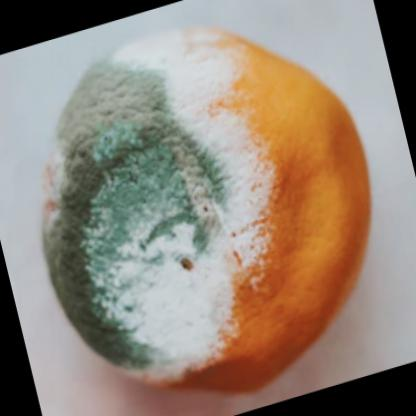rotten_orange: (39, 16, 380, 396)
